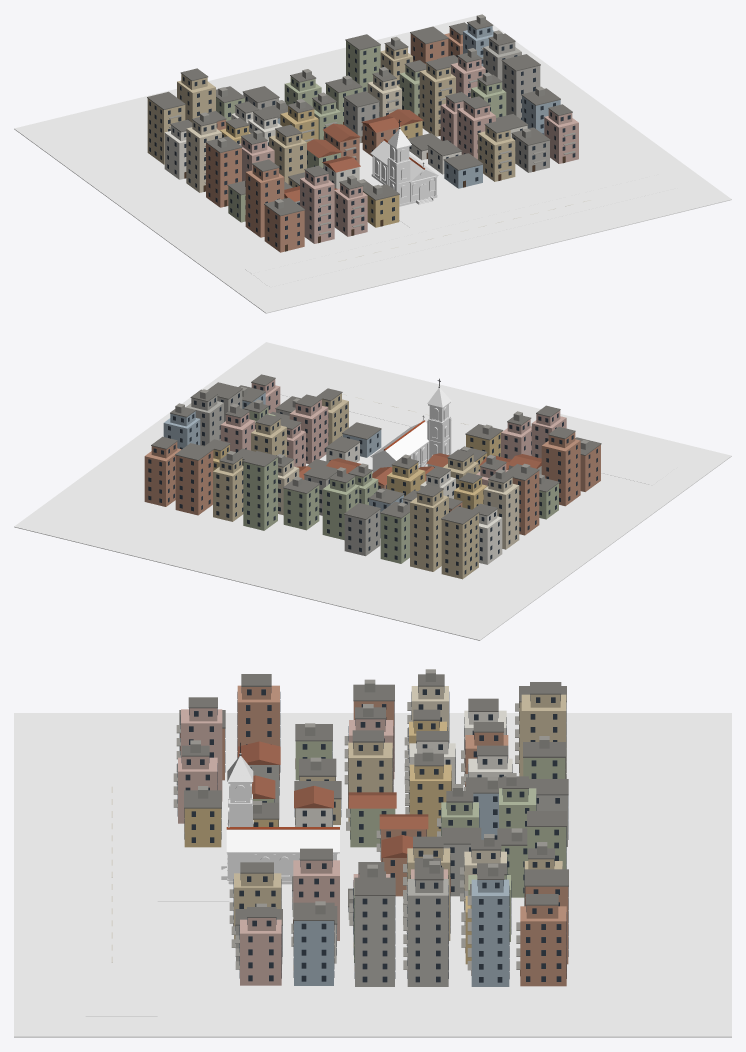
File: modelo-parroquia.glb
The picture shows the model from 3 angles, top to bottom: view 1: azimuth 30°, elevation 25°; view 2: azimuth 150°, elevation 25°; view 3: azimuth 270°, elevation 25°; orthographic projection. The views are drawn at different scales.
Visible parts, largest first — view 1: Ground, Street, Sidewalk, Plaza, Building_39_Body, Building_49_Body, Building_47_Body, Building_10_Body, Building_46_Body, Building_07_Body, Building_52_Body, Building_21_Body (+25 smaller); view 2: Ground, Street, Building_45_Body, Building_06_Body, Building_18_Body, Building_52_Body, Building_47_Body, Building_24_Body, Building_12_Body, Building_50_Body, Building_55_Body, Building_38_Body (+19 smaller); view 3: Ground, Street, Sidewalk, Building_22_Body, Plaza, Building_23_Body, Building_21_Body, Building_24_Body, Roof_Right, Building_20_Body, Building_19_Body, Building_47_Body (+39 smaller).
Boxes of the visible parts, box(x1,y1,x2,y2) form: Ground: box(14, 15, 731, 313); Street: box(252, 174, 676, 287); Sidewalk: box(245, 169, 658, 273); Plaza: box(399, 191, 485, 228); Building_39_Body: box(300, 177, 334, 243); Building_49_Body: box(206, 143, 241, 207); Building_47_Body: box(245, 170, 284, 237); Building_10_Body: box(419, 69, 455, 136); Building_46_Body: box(264, 205, 304, 252); Building_07_Body: box(478, 131, 515, 181); Building_52_Body: box(147, 98, 185, 164); Building_21_Body: box(502, 61, 540, 118); Ground: box(14, 342, 731, 640); Street: box(252, 367, 677, 480); Building_45_Body: box(410, 495, 448, 571); Building_06_Body: box(243, 457, 277, 530); Building_18_Body: box(175, 450, 213, 515); Building_52_Body: box(441, 513, 478, 579); Building_47_Body: box(541, 439, 580, 506); Building_24_Body: box(144, 448, 181, 506); Building_12_Body: box(213, 465, 243, 521); Building_50_Body: box(483, 484, 519, 549); Building_55_Body: box(322, 484, 359, 540); Building_38_Body: box(380, 512, 409, 563); Ground: box(14, 713, 731, 1037); Street: box(85, 733, 138, 1016); Sidewalk: box(138, 733, 157, 1016); Building_22_Body: box(407, 879, 448, 986); Plaza: box(157, 848, 229, 901); Building_23_Body: box(471, 879, 509, 986); Building_21_Body: box(355, 896, 394, 986); Building_24_Body: box(520, 906, 566, 986); Roof_Right: box(226, 829, 339, 853); Building_20_Body: box(294, 921, 333, 985); Building_19_Body: box(240, 919, 281, 985); Building_47_Body: box(237, 685, 279, 779).
Bounding box in the file's own units: 160 × 27.49 × 150.
